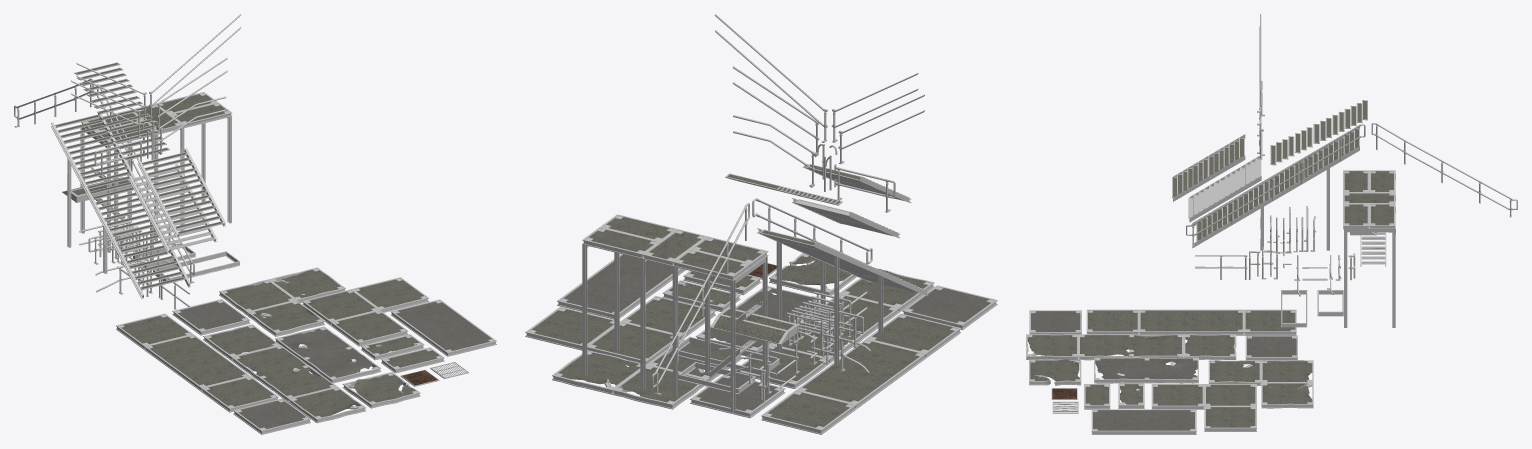
Rendered from CatWalkPKG.fbx.
3 renders of one model, left to right at view 1: azimuth 30°, elevation 25°; view 2: azimuth 150°, elevation 25°; view 3: azimuth 270°, elevation 25°, orthographic. The views are drawn at different scales.
Visible parts, largest first — view 1: SM_F_Stairs_Tall.mo, SM_PrisonCatwalk_2x8_B.mo, SM_PrisonCatwalk_2x8_A.mo, SM_Catwalk_Platform.mo, SM_PrisonCatwalkCorner_4x4_A.mo, SM_PrisonCatwalkCorner_4x4_B.mo, SM_PrisonCatwalk_2x4_A.mo, SM_SteelCatwalks_Stairs_C.mo, SM_PrisonCatwalk_2x4_B.mo, SM_ConcreteCatwaltWalks_Stairs_A.mo, SM_SteelCatwalks_Stairs_D.mo, SM_PrisonCatwalk_2x2_A.mo (+9 smaller); view 2: SM_Catwalk_Platform.mo, SM_PrisonCatwalk_2x8_A.mo, SM_PrisonCatwalkCorner_4x4_A.mo, SM_PrisonCatwalk_2x8_B.mo, SM_PrisonCatwalkCorner_4x4_B.mo, SM_F_Stairs_Tall.mo, SM_PrisonCatwalk_2x4_A.mo, SM_PrisonCatwalk_2x2_C.mo, SM_PrisonCatwalk_2x2_A.mo, SM_PrisonCatwalk_2x4_B.mo, SM_MetalRampStep.mo, SM_PrisonCatwalk_2x2_B.mo (+16 smaller); view 3: SM_PrisonCatwalk_2x8_A.mo, SM_PrisonCatwalk_2x8_B.mo, SM_F_Stairs_Tall.mo, SM_Catwalk_Platform.mo, SM_PrisonCatwalkCorner_4x4_A.mo, SM_PrisonCatwalkCorner_4x4_B.mo, SM_PrisonCatwalk_2x4_A.mo, SM_PrisonCatwalk_2x4_B.mo, SM_ConcreteCatwaltWalks_Stairs_A.mo, SM_SteelCatwalks_Stairs_D.mo, SM_SteelCatwalks_Stairs_C.mo, SM_PrisonCatwalk_2x2_B.mo (+7 smaller).
Part boxes in pixels (x1,y1,x2,y2): SM_F_Stairs_Tall.mo: (51,111,190,298); SM_PrisonCatwalk_2x8_B.mo: (203,324,366,423); SM_PrisonCatwalk_2x8_A.mo: (116,313,278,412); SM_Catwalk_Platform.mo: (80,92,232,252); SM_PrisonCatwalkCorner_4x4_A.mo: (302,277,429,346); SM_PrisonCatwalkCorner_4x4_B.mo: (219,267,345,336); SM_PrisonCatwalk_2x4_A.mo: (390,299,496,356); SM_SteelCatwalks_Stairs_C.mo: (137,148,225,238); SM_PrisonCatwalk_2x4_B.mo: (275,326,381,383); SM_ConcreteCatwaltWalks_Stairs_A.mo: (74,62,169,160); SM_SteelCatwalks_Stairs_D.mo: (128,163,217,253); SM_PrisonCatwalk_2x2_A.mo: (172,299,250,335); SM_Catwalk_Platform.mo: (582,214,768,412); SM_PrisonCatwalk_2x8_A.mo: (761,313,960,434); SM_PrisonCatwalkCorner_4x4_A.mo: (525,296,715,364); SM_PrisonCatwalk_2x8_B.mo: (737,268,934,388); SM_PrisonCatwalkCorner_4x4_B.mo: (552,339,741,409); SM_F_Stairs_Tall.mo: (757,228,928,365); SM_PrisonCatwalk_2x4_A.mo: (557,254,685,319); SM_PrisonCatwalk_2x2_C.mo: (902,285,997,330); SM_PrisonCatwalk_2x2_A.mo: (690,374,785,418); SM_PrisonCatwalk_2x4_B.mo: (695,286,820,352); SM_MetalRampStep.mo: (710,307,798,344); SM_PrisonCatwalk_2x2_B.mo: (769,253,856,295); SM_PrisonCatwalk_2x8_A.mo: (1086,309,1296,335); SM_PrisonCatwalk_2x8_B.mo: (1026,334,1236,360); SM_F_Stairs_Tall.mo: (1192,127,1359,250); SM_Catwalk_Platform.mo: (1343,170,1395,327); SM_PrisonCatwalkCorner_4x4_A.mo: (1151,384,1256,431); SM_PrisonCatwalkCorner_4x4_B.mo: (1208,360,1313,408); SM_PrisonCatwalk_2x4_A.mo: (1091,409,1196,434); SM_PrisonCatwalk_2x4_B.mo: (1094,357,1198,383); SM_ConcreteCatwaltWalks_Stairs_A.mo: (1270,100,1367,165); SM_SteelCatwalks_Stairs_D.mo: (1188,155,1261,222); SM_SteelCatwalks_Stairs_C.mo: (1172,134,1245,201); SM_PrisonCatwalk_2x2_B.mo: (1029,359,1081,385).
Size of the model in its own units: 1356 by 1181 by 1872.
